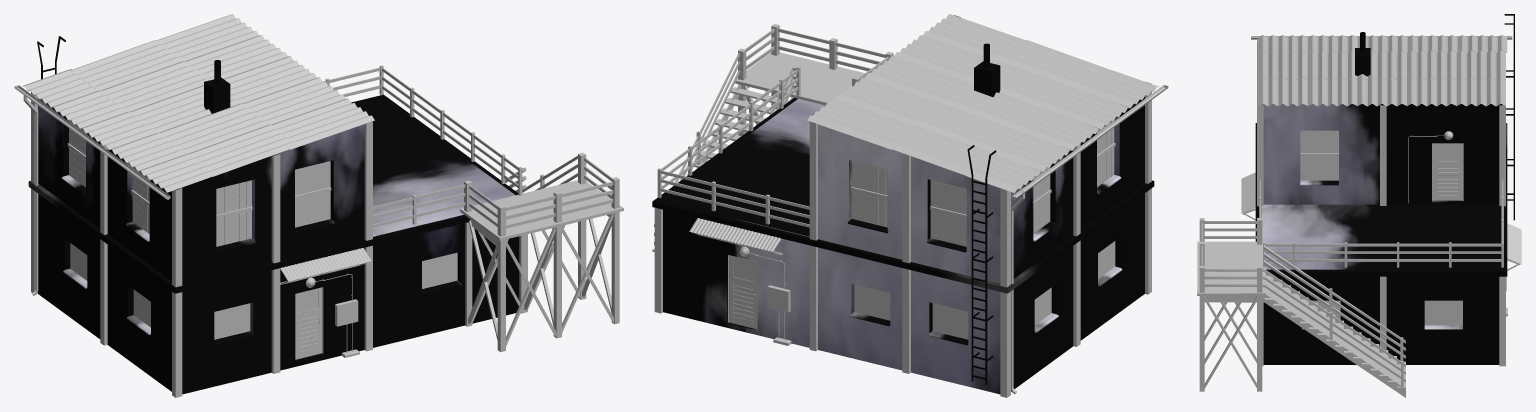
The picture shows the model from 3 angles, left to right: view 1: azimuth 30°, elevation 25°; view 2: azimuth 150°, elevation 25°; view 3: azimuth 270°, elevation 25°; orthographic projection. The views are drawn at different scales.
Parts seen in each view (by area): view 1: schody.001; view 2: schody.001; view 3: schody.001.
Part boxes in pixels (<box>): schody.001: <box>14,14,623,397</box>; schody.001: <box>652,14,1168,397</box>; schody.001: <box>1197,14,1521,397</box>.
Size of the model in its own units: 1607 by 990 by 1233.
